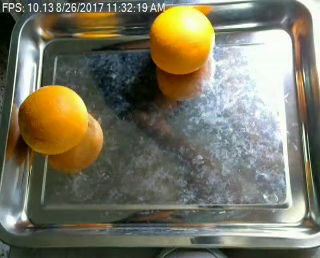Orange: (18, 84, 90, 154), (148, 4, 216, 76)
